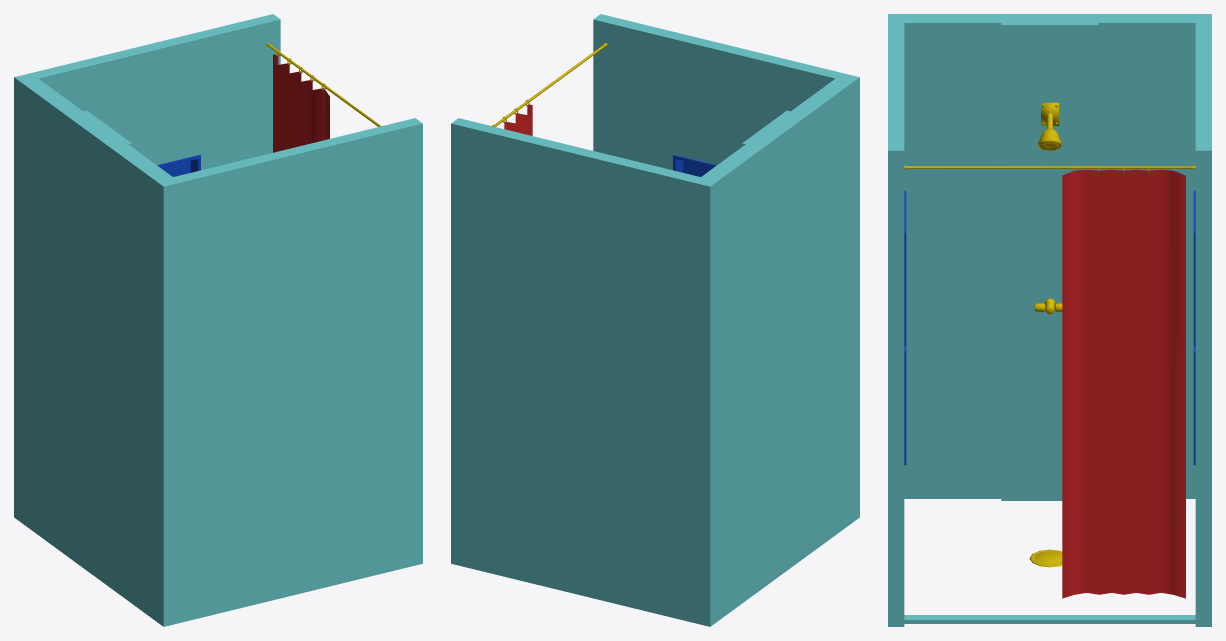
The model's file is MOD_FUR_Shower_stall_01.fbx.
The picture shows the model from 3 angles, left to right: view 1: azimuth 30°, elevation 25°; view 2: azimuth 150°, elevation 25°; view 3: azimuth 270°, elevation 25°; orthographic projection. The views are drawn at different scales.
Visible parts, largest first — view 1: HSHP_MOD_Shower_stall_01; view 2: HSHP_MOD_Shower_stall_01; view 3: HSHP_MOD_Shower_stall_01.
Part boxes in pixels (x1,y1,x2,y2): HSHP_MOD_Shower_stall_01: (14, 14, 422, 626); HSHP_MOD_Shower_stall_01: (451, 14, 859, 626); HSHP_MOD_Shower_stall_01: (888, 14, 1211, 626).
Bounding box in the file's own units: 1.54 × 2.5 × 1.54.
